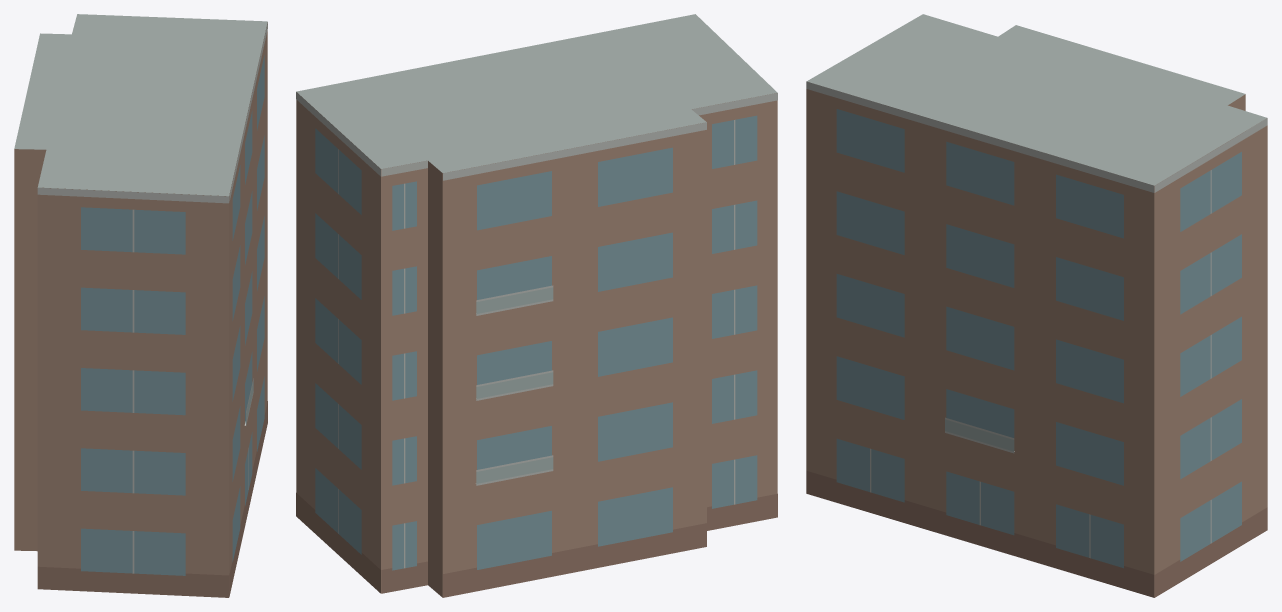
Rendered from survey-upis-32839164.glb.
3 views of the same model, side by side, from view 1: azimuth 30°, elevation 25°; view 2: azimuth 150°, elevation 25°; view 3: azimuth 270°, elevation 25° (orthographic). The views are drawn at different scales.
Parts seen in each view (by area): view 1: survey-upis-32839164.tmp; view 2: survey-upis-32839164.tmp; view 3: survey-upis-32839164.tmp.
Part boxes in pixels (box(x1,y1,x2,y2)): survey-upis-32839164.tmp: box(14, 14, 267, 597); survey-upis-32839164.tmp: box(296, 14, 777, 597); survey-upis-32839164.tmp: box(806, 14, 1267, 597).
Bounding box in the file's own units: 12.16 × 13.6 × 13.8.
